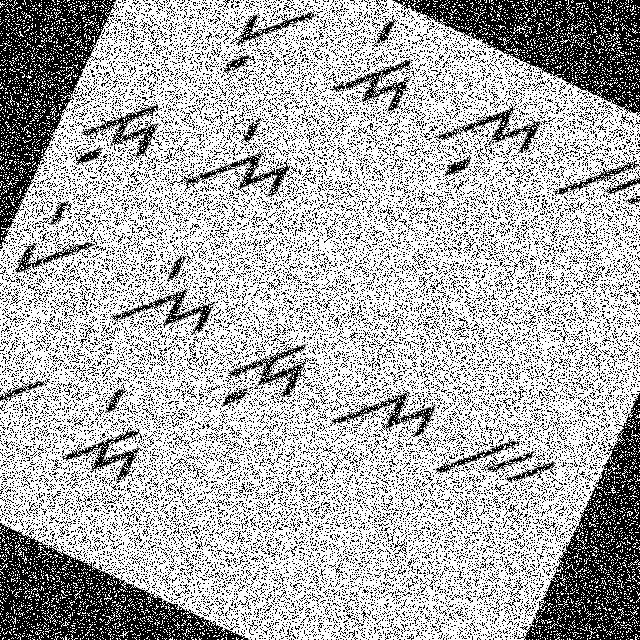de: (318, 0, 447, 134), (54, 375, 163, 497)
du: (197, 304, 323, 436), (56, 68, 180, 201)
na: (322, 350, 451, 471)
ne: (101, 228, 239, 366), (175, 94, 308, 224)
nu: (416, 70, 558, 210)
pe: (0, 186, 114, 306), (132, 0, 240, 37)
pu: (210, 0, 322, 103), (0, 341, 55, 472)
